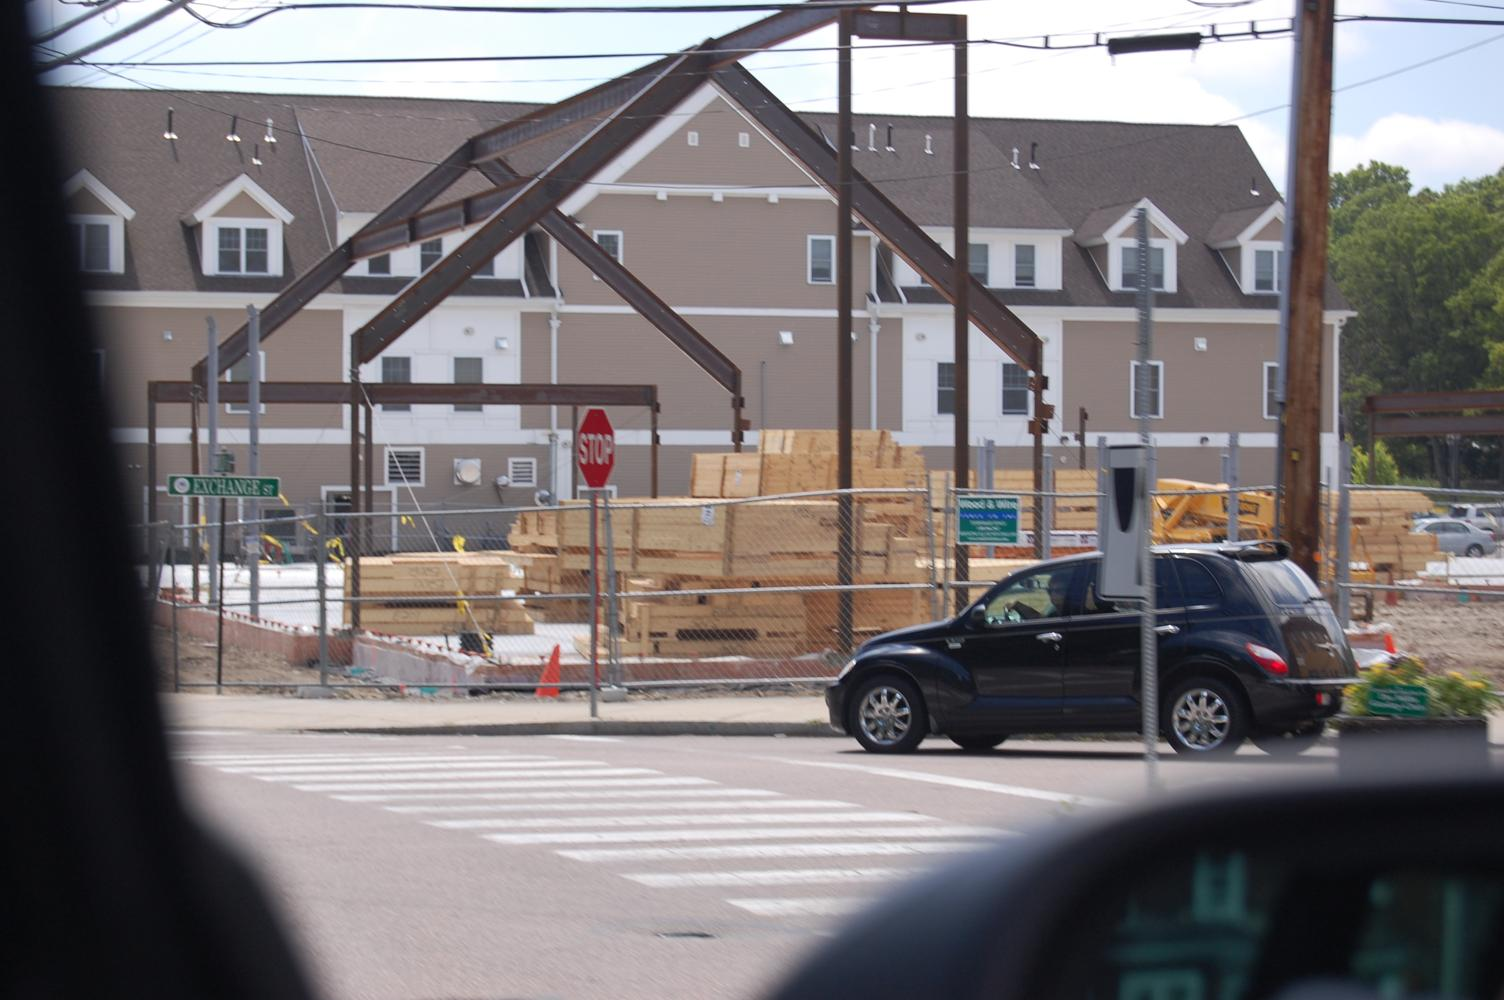car: (811, 559, 1349, 753)
